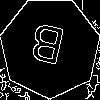B: (25, 22, 67, 75)
